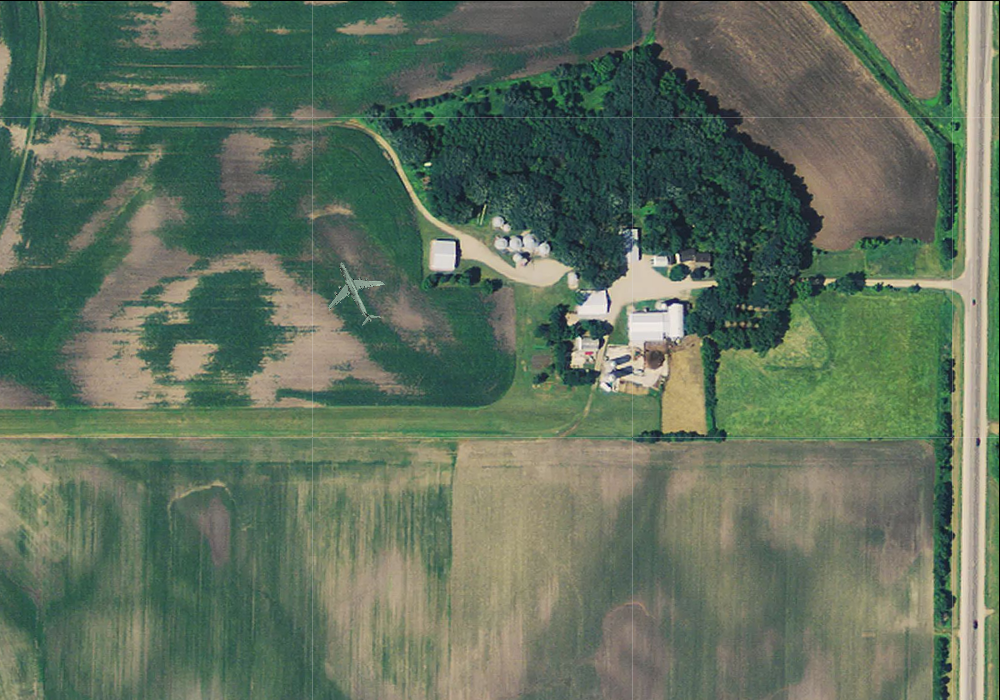plane: (311, 247, 400, 337)
